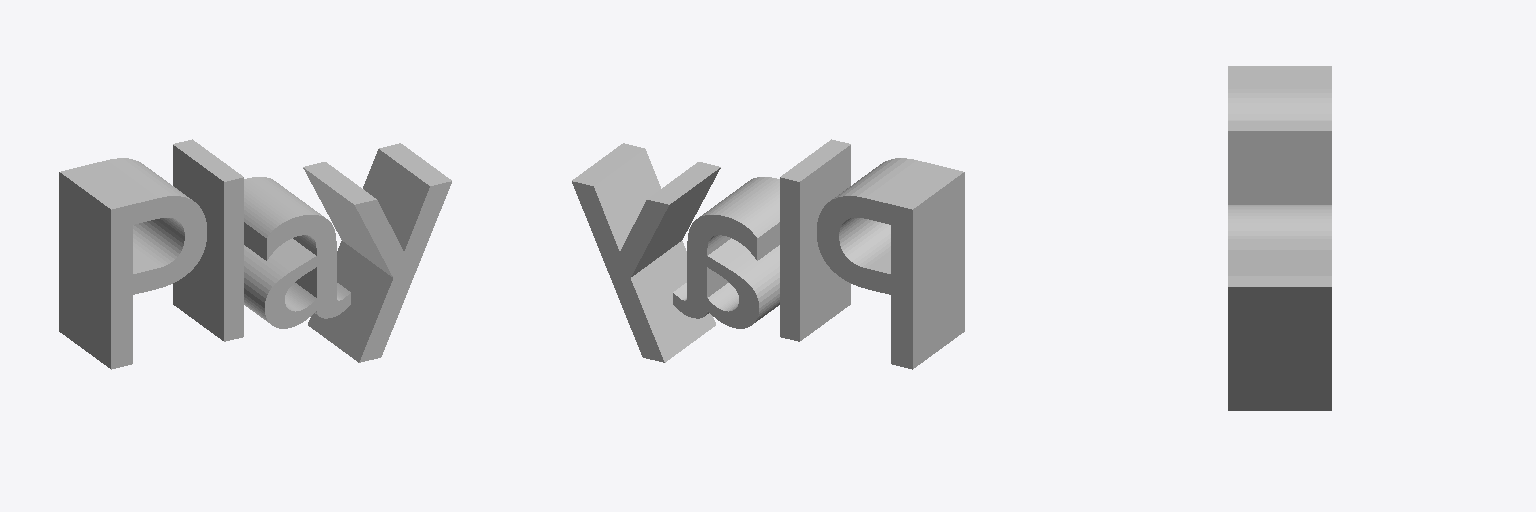
File: Play.obj
3 views of the same model, side by side, from view 1: azimuth 30°, elevation 25°; view 2: azimuth 150°, elevation 25°; view 3: azimuth 270°, elevation 25° (orthographic).
Visible parts, largest first — view 1: Text_CUText; view 2: Text_CUText; view 3: Text_CUText.
Part boxes in pixels (left/top/right/bottom): Text_CUText: left=59, top=139, right=451, bottom=369; Text_CUText: left=572, top=139, right=964, bottom=369; Text_CUText: left=1228, top=66, right=1331, bottom=410.
Size of the model in its own units: 1.52 by 0.912 by 0.4.